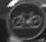bike lane: (5, 3, 42, 35)
